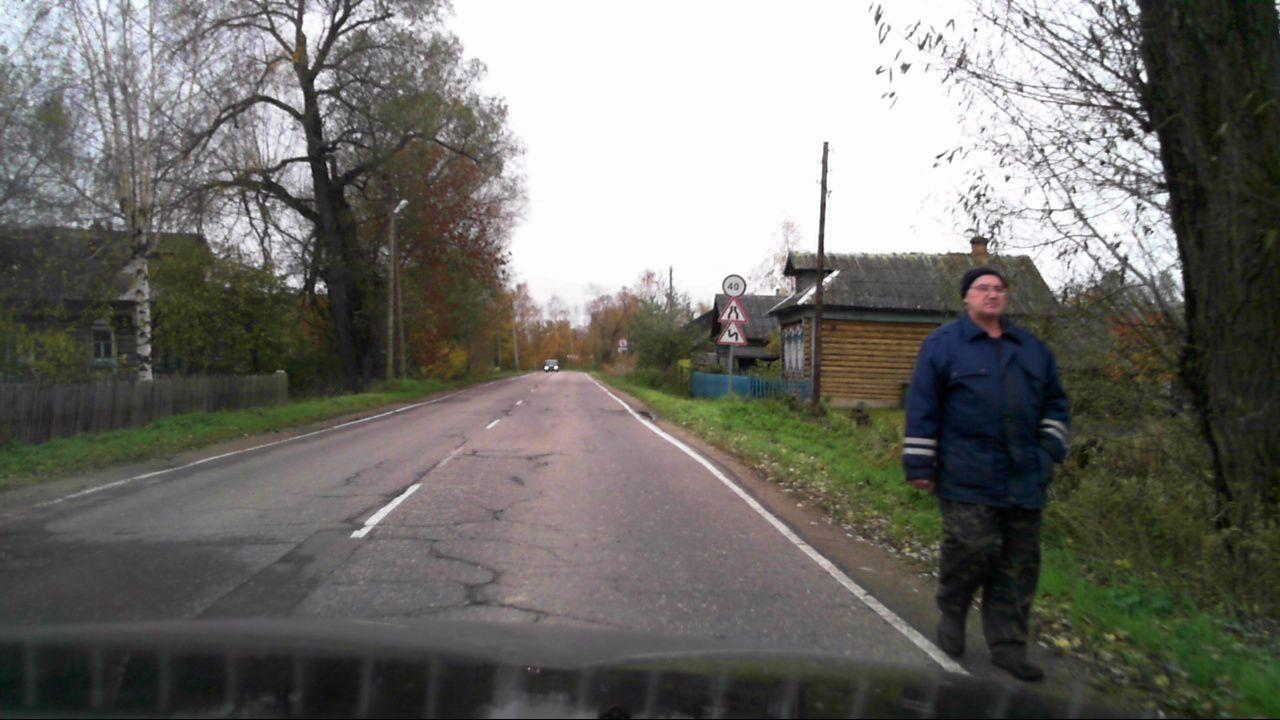1_12_2: (718, 322, 747, 348)
1_20_1: (718, 298, 748, 322)
2_6: (617, 338, 629, 346)
3_24: (718, 273, 748, 298)
8_1_1: (617, 348, 629, 355)
